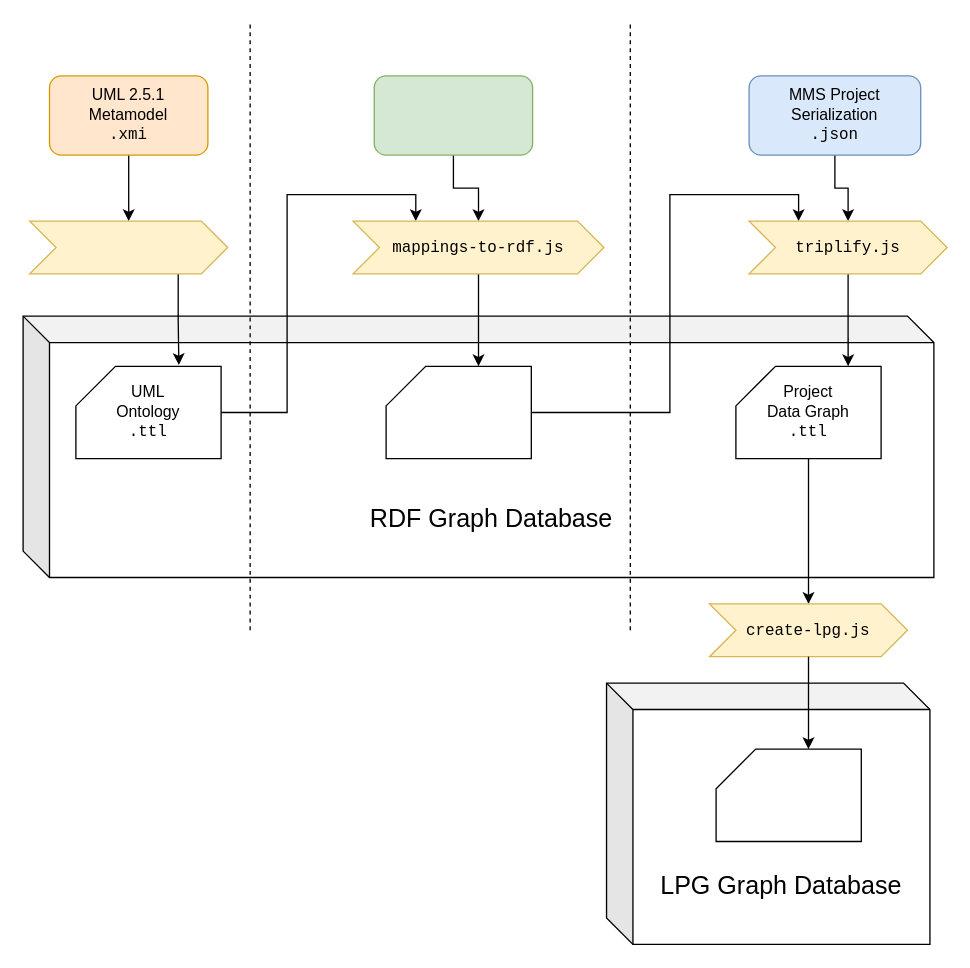
The diagram is 970 pixels wide and 968 high, and some of its shapes have lost their labels. The shapes that lost their labels are listed below. From the top down, each one's centre as x and y in pixels, then its label:
point 453,115: ElasticSearch Mappings .json
point 128,247: convert-uml.js
point 458,412: MMS Ontology .ttl
point 788,795: Project Data Graph .csv
